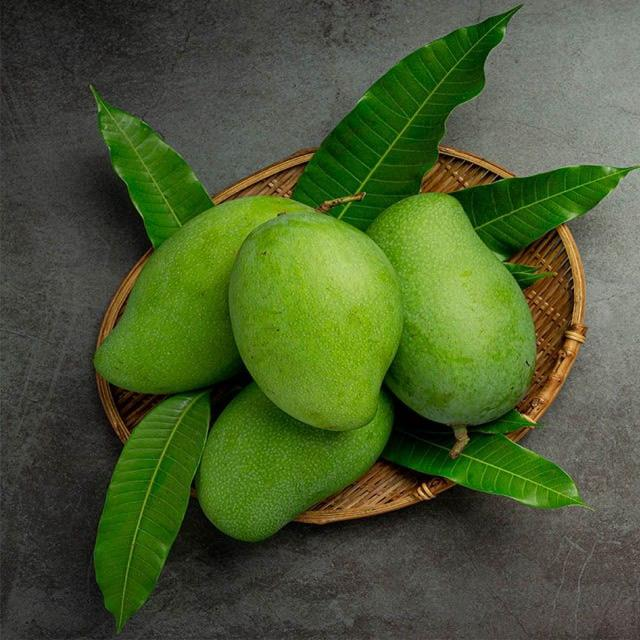mango: (94, 196, 311, 393), (367, 194, 535, 425), (229, 213, 401, 430), (196, 383, 392, 541)
